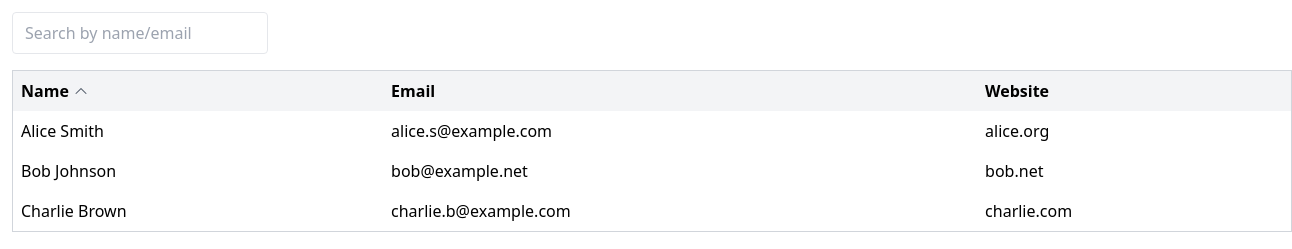
Scenario: UserList render › should filter the rendered list when the search input changes
Type "Alice" into the field with placeholder "Search by name/email". click: (140, 33)
box: [12,12,268,54]
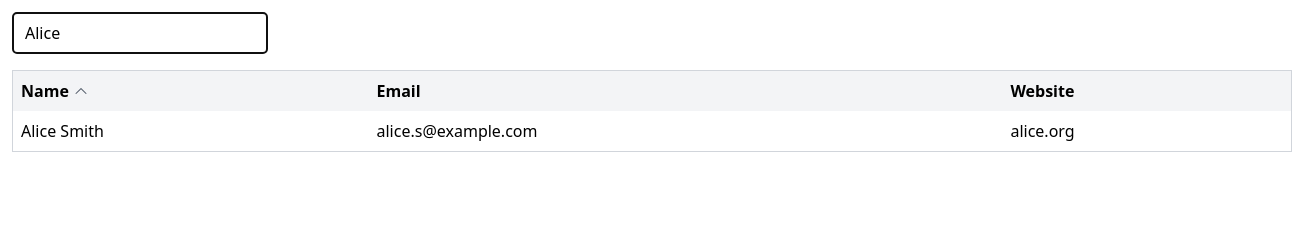
Expected: the text "Alice Smith" is shown, [12,111,368,152]
Expected: the link "Bob Johnson" is gone
